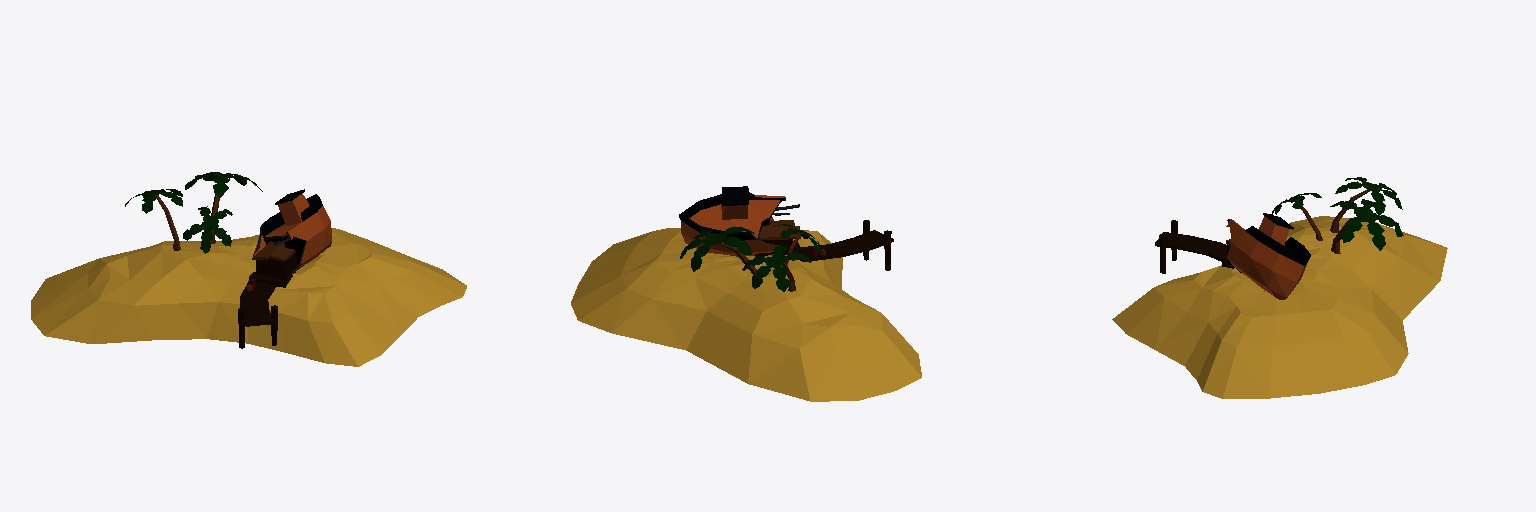
Rendered from scenery_island_1.obj.
3 renders of one model, left to right at view 1: azimuth 30°, elevation 25°; view 2: azimuth 150°, elevation 25°; view 3: azimuth 270°, elevation 25°, orthographic.
Parts seen in each view (by area): view 1: Circle.017_Circle.038, Circle.020_Circle.041, Cube.009_Cube.053, Cube.012_Cube.054, Circle.014_Circle.035, Circle.019_Circle.040; view 2: Circle.017_Circle.038, Circle.020_Circle.041, Cube.009_Cube.053, Circle.015_Circle.036, Circle.019_Circle.040, Cube.012_Cube.054; view 3: Circle.017_Circle.038, Circle.020_Circle.041, Cube.009_Cube.053, Circle.019_Circle.040, Circle.015_Circle.036.
Part boxes in pixels (x1,y1,x2,y2): Circle.017_Circle.038: (31, 228, 466, 366); Circle.020_Circle.041: (253, 189, 331, 273); Cube.009_Cube.053: (238, 281, 277, 348); Cube.012_Cube.054: (252, 241, 296, 279); Circle.014_Circle.035: (183, 206, 232, 253); Circle.019_Circle.040: (185, 172, 262, 197); Circle.017_Circle.038: (571, 228, 921, 401); Circle.020_Circle.041: (679, 186, 799, 256); Cube.009_Cube.053: (801, 220, 893, 270); Circle.015_Circle.036: (742, 246, 811, 291); Circle.019_Circle.040: (680, 226, 754, 271); Cube.012_Cube.054: (755, 220, 800, 256); Circle.017_Circle.038: (1112, 216, 1447, 398); Circle.020_Circle.041: (1226, 213, 1310, 299); Cube.009_Cube.053: (1155, 220, 1226, 273); Circle.019_Circle.040: (1330, 199, 1403, 250); Circle.015_Circle.036: (1335, 177, 1402, 215).
Size of the model in its own units: 156 by 46.44 by 124.